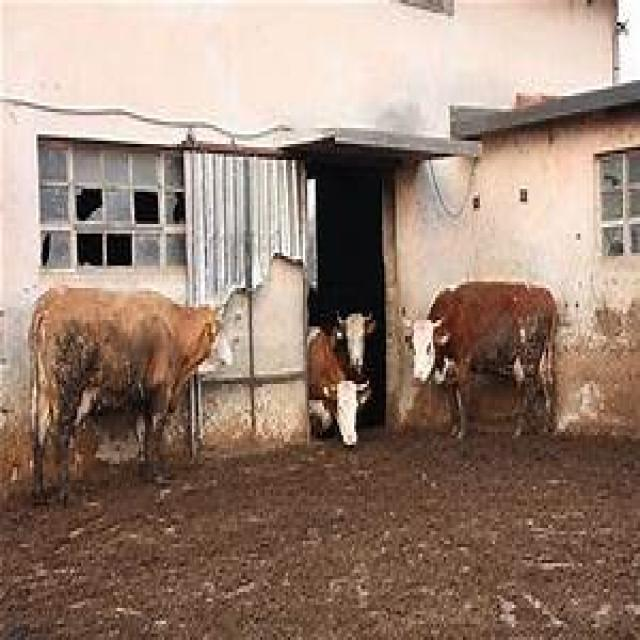cow: (30, 287, 235, 500), (402, 281, 558, 436), (309, 330, 356, 445), (334, 317, 374, 374)
